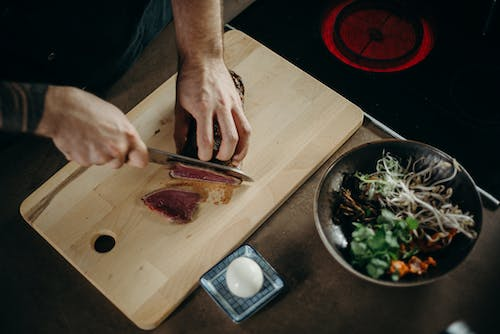knife: (145, 146, 255, 183)
